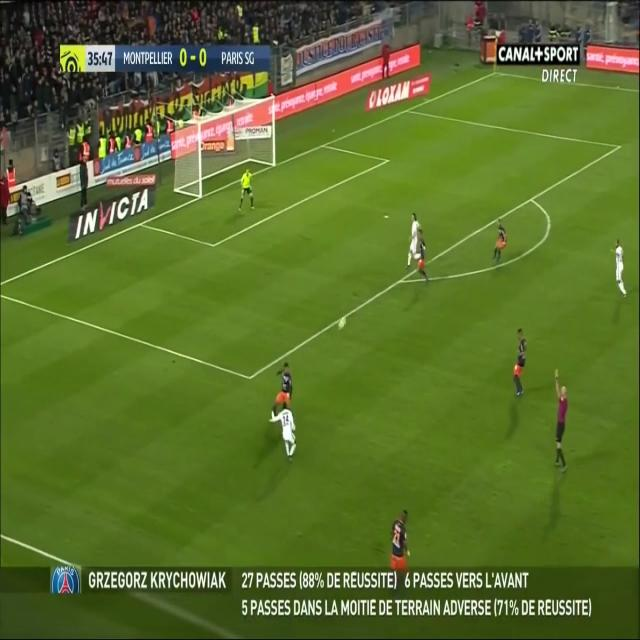Ball: (335, 314, 349, 334)
Goalkeeper: (234, 166, 256, 216)
Player: (268, 402, 300, 459), (389, 506, 413, 570), (270, 359, 294, 418), (609, 237, 629, 299), (511, 328, 528, 399), (404, 210, 420, 272), (418, 226, 432, 288), (492, 218, 508, 264)
Referee: (554, 366, 570, 475)
